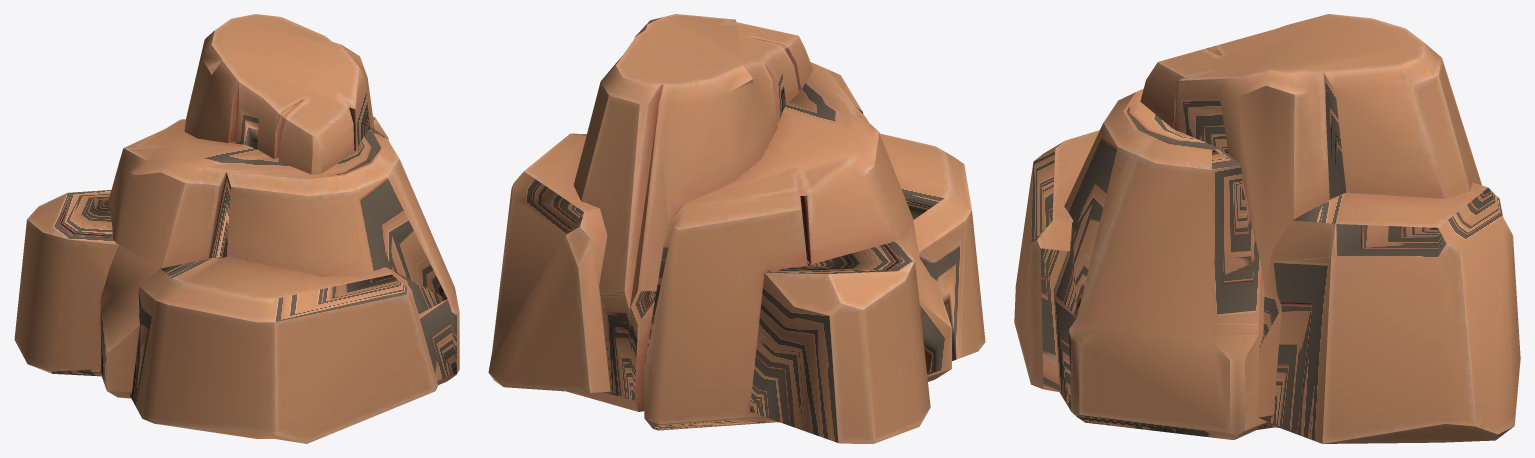
File: desert-rock-02.glb
3 views of the same model, side by side, from view 1: azimuth 30°, elevation 25°; view 2: azimuth 150°, elevation 25°; view 3: azimuth 270°, elevation 25° (orthographic). The views are drawn at different scales.
Parts seen in each view (by area): view 1: Rock_2; view 2: Rock_2; view 3: Rock_2.
Boxes of the visible parts, left/top/right/bottom form: Rock_2: left=14, top=14, right=459, bottom=443; Rock_2: left=488, top=14, right=985, bottom=443; Rock_2: left=1014, top=14, right=1520, bottom=443.
Size of the model in its own units: 4.4 by 3.4 by 4.53.
Materials: 1 (1 with a texture image).
